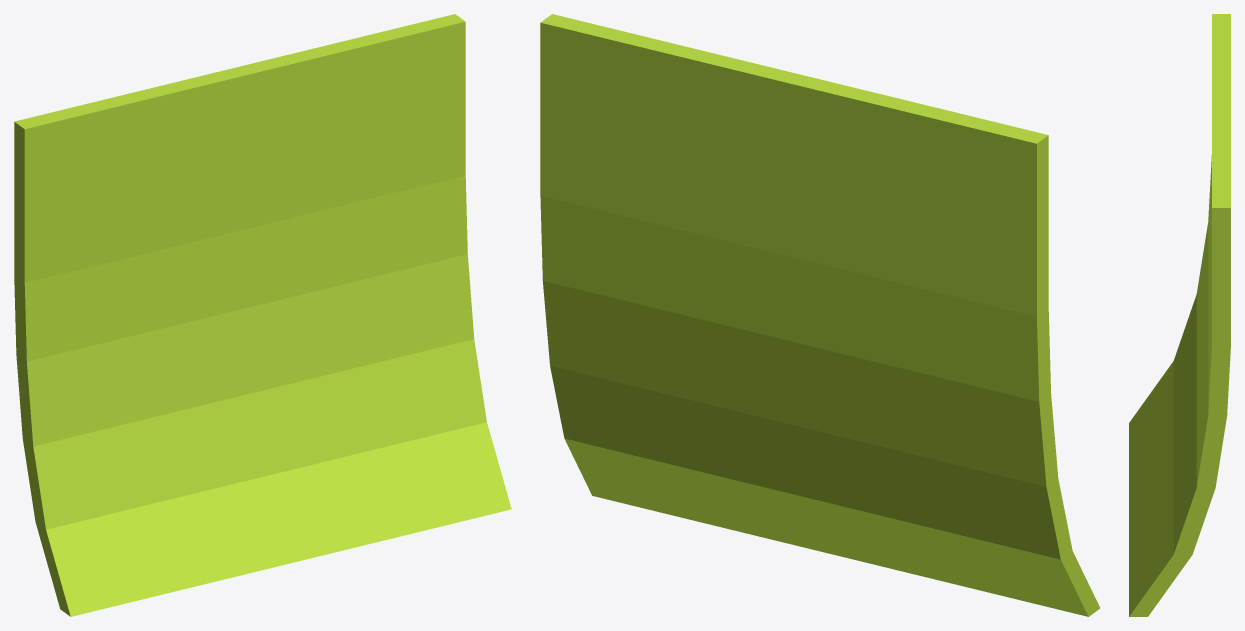
Rendered from MemorialRoom_Postit.fbx.
3 renders of one model, left to right at view 1: azimuth 30°, elevation 25°; view 2: azimuth 150°, elevation 25°; view 3: azimuth 270°, elevation 25°, orthographic. The views are drawn at different scales.
Parts seen in each view (by area): view 1: Post it; view 2: Post it; view 3: Post it.
Boxes of the visible parts, x1,y1,x2,y2 form: Post it: (14,14,511,616); Post it: (540,14,1100,616); Post it: (1129,14,1230,616).
Size of the model in its own units: 156 by 153 by 34.64.
